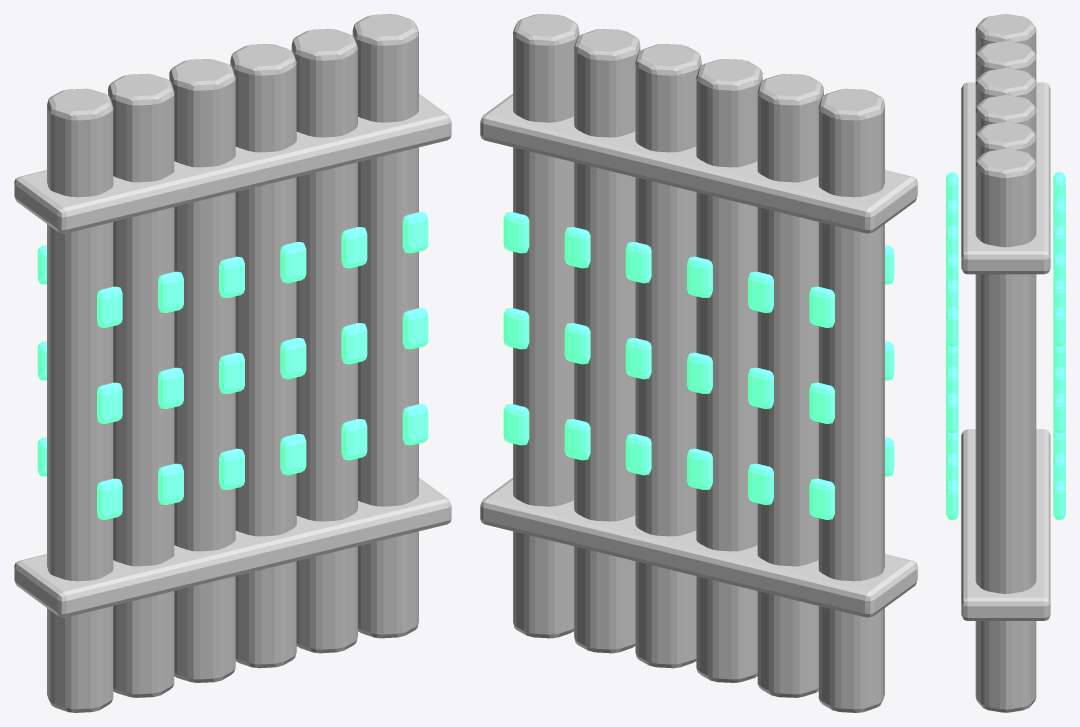
Rendered from china_tablet.fbx.
3 views of the same model, side by side, from view 1: azimuth 30°, elevation 25°; view 2: azimuth 150°, elevation 25°; view 3: azimuth 270°, elevation 25° (orthographic). The views are drawn at different scales.
Parts seen in each view (by area): view 1: china_tablet; view 2: china_tablet; view 3: china_tablet.
Boxes of the visible parts, x1,y1,x2,y2 form: china_tablet: [14, 14, 451, 712]; china_tablet: [480, 14, 917, 712]; china_tablet: [946, 14, 1065, 712].
Size of the model in its own units: 0.644 by 0.94 by 0.188.
